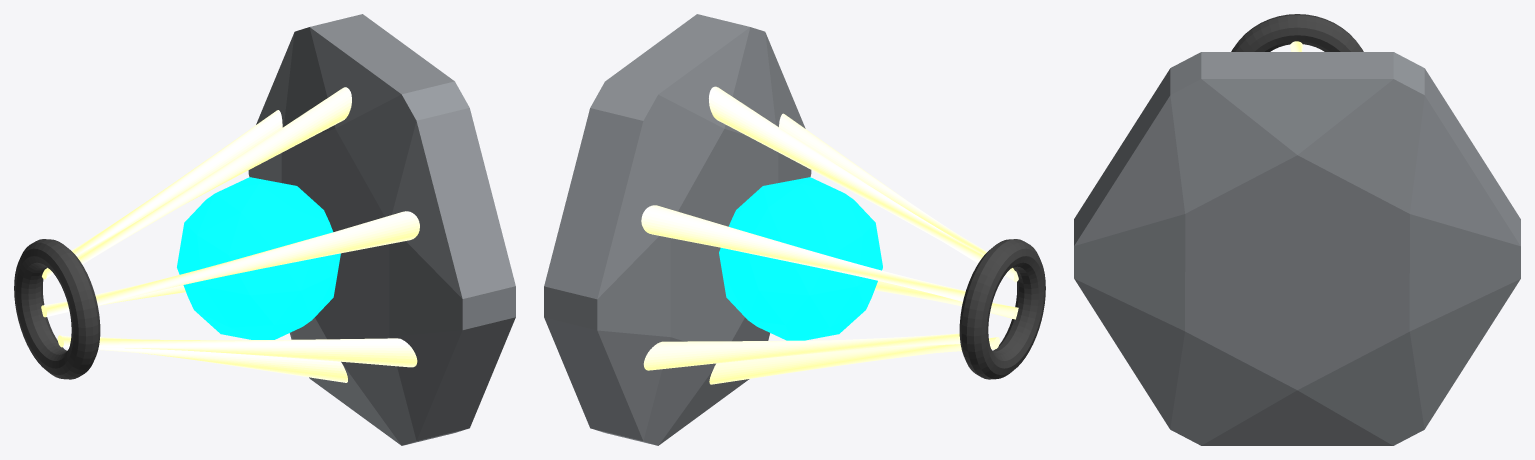
File: Cannon.fbx
The picture shows the model from 3 angles, left to right: view 1: azimuth 30°, elevation 25°; view 2: azimuth 150°, elevation 25°; view 3: azimuth 270°, elevation 25°; orthographic projection. The views are drawn at different scales.
Parts seen in each view (by area): view 1: Cannon; view 2: Cannon; view 3: Cannon.
Boxes of the visible parts, <box> form: Cannon: <box>14,14,515,445</box>; Cannon: <box>544,14,1045,445</box>; Cannon: <box>1074,14,1520,445</box>.
Size of the model in its own units: 180 by 157 by 173.
